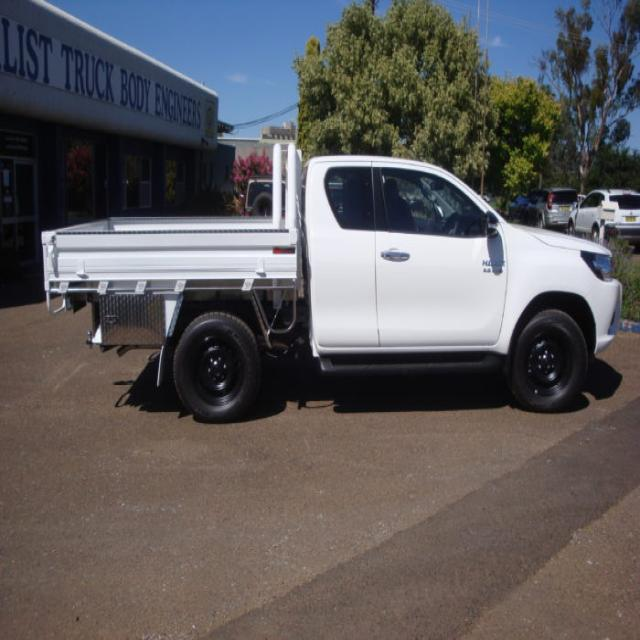light_vehicle: (31, 128, 626, 414)
